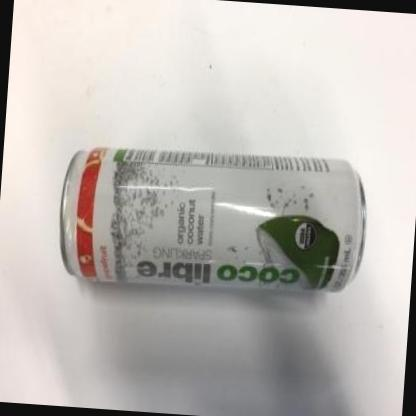alumunium_can: (53, 135, 377, 310)
